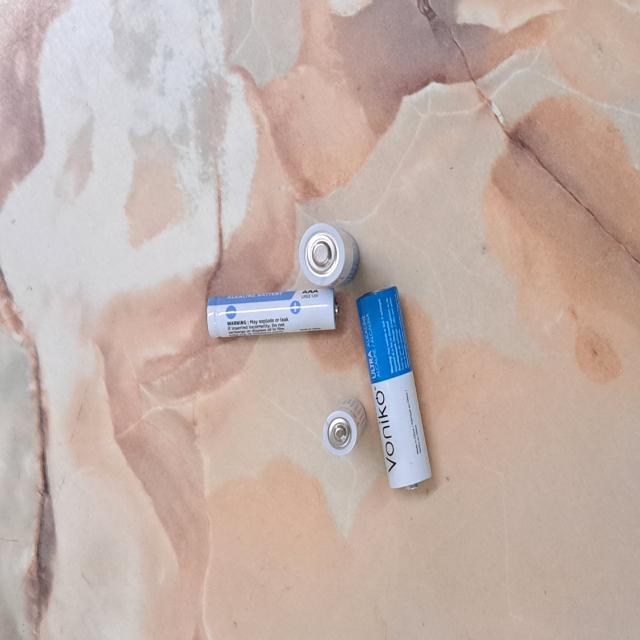battery: (356, 284, 433, 490), (208, 290, 338, 340), (299, 222, 360, 290), (322, 397, 368, 455)
